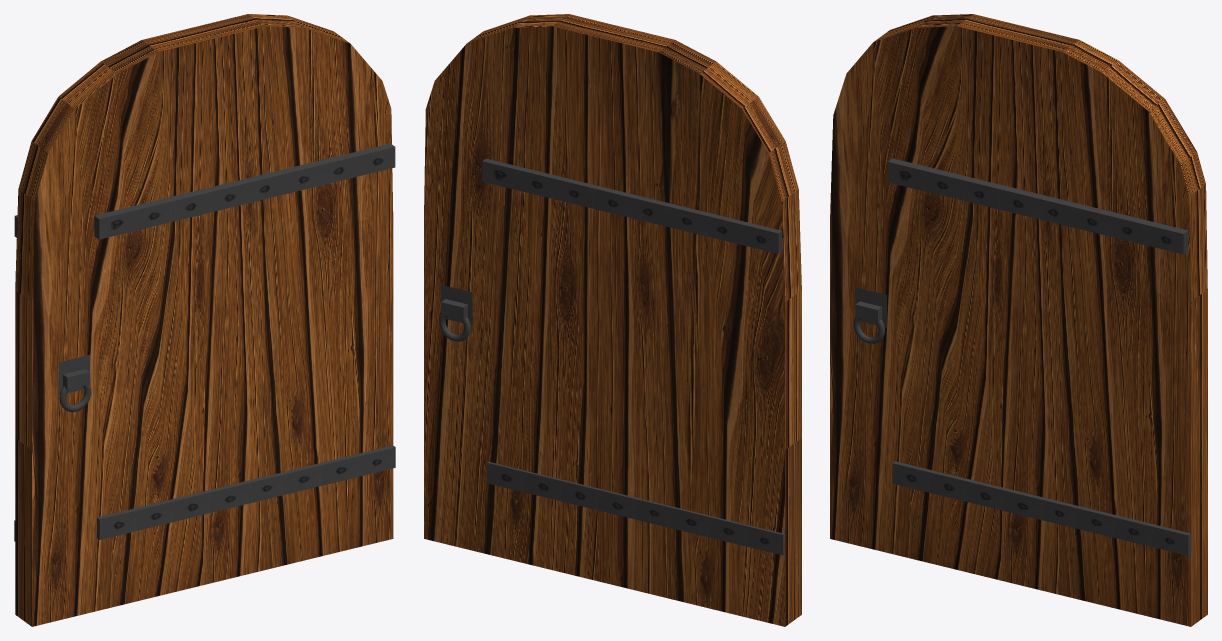
The model's file is Castle1DoorRealWood.glb.
The picture shows the model from 3 angles, left to right: view 1: azimuth 30°, elevation 25°; view 2: azimuth 150°, elevation 25°; view 3: azimuth 330°, elevation 25°; orthographic projection.
Parts seen in each view (by area): view 1: Cube, Cube.002, Cube.001, Plane; view 2: Cube, Cube.005, Cube.004, Plane.001; view 3: Cube, Cube.002, Cube.001, Plane.
Boxes of the visible parts, box(x1,y1,x2,y2) form: Cube: box(15, 14, 393, 626); Cube.002: box(94, 143, 395, 239); Cube.001: box(97, 445, 395, 539); Plane: box(58, 355, 90, 395); Cube: box(424, 14, 801, 626); Cube.005: box(482, 158, 782, 253); Cube.004: box(487, 461, 784, 555); Plane.001: box(441, 284, 472, 325); Cube: box(830, 14, 1207, 626); Cube.002: box(887, 158, 1188, 254); Cube.001: box(892, 461, 1190, 555); Plane: box(855, 287, 886, 327).
Size of the model in its own units: 0.6845 by 0.985 by 0.0868.
Materials: 3 (3 with a texture image).
